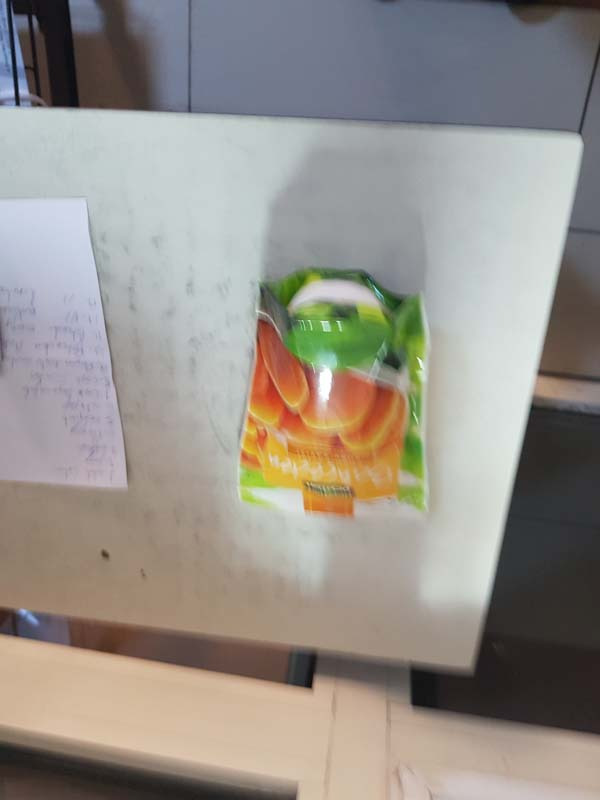bahcedenkurukayisi: (240, 261, 446, 528)
